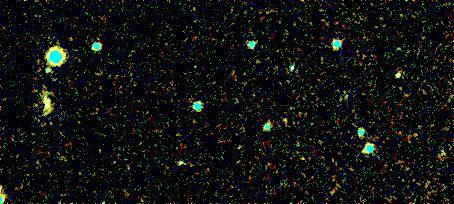star: (272, 109, 302, 139)
